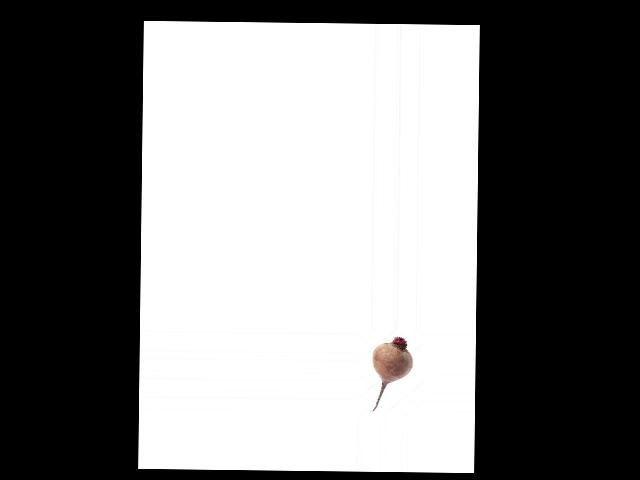beet: (371, 336, 414, 411)
